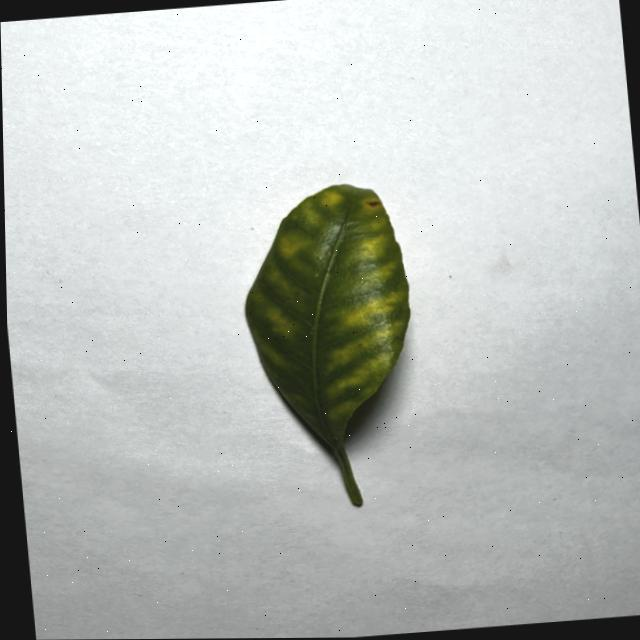greening: (246, 184, 410, 504)
